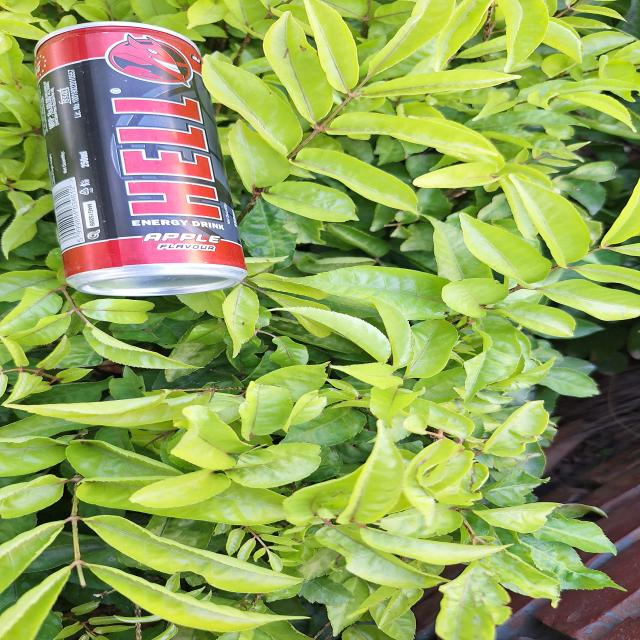Hell Apple: (23, 32, 274, 289)
